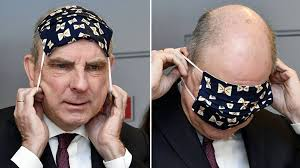mask_weared_incorrect: (198, 41, 271, 143), (41, 27, 112, 125)
